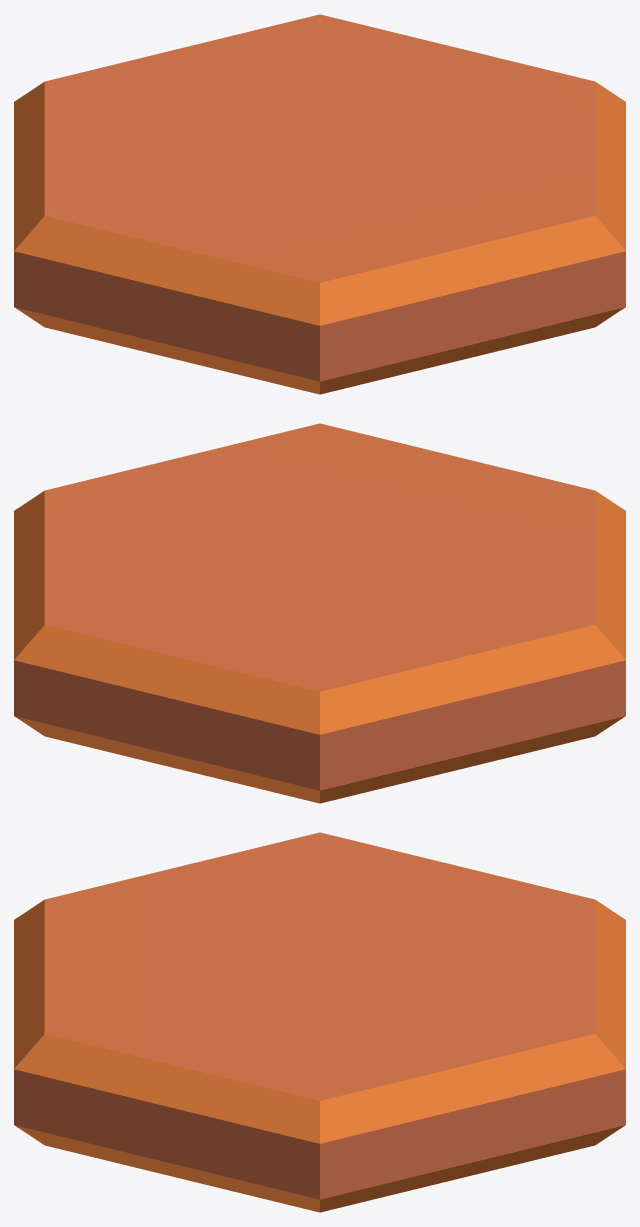
File: CoinBronze_Mesh.fbx
The picture shows the model from 3 angles, top to bottom: view 1: azimuth 30°, elevation 25°; view 2: azimuth 150°, elevation 25°; view 3: azimuth 270°, elevation 25°; orthographic projection.
Parts seen in each view (by area): view 1: CoinBronze_Mesh; view 2: CoinBronze_Mesh; view 3: CoinBronze_Mesh.
Boxes of the visible parts, left/top/right/bottom form: CoinBronze_Mesh: left=14, top=14, right=625, bottom=394; CoinBronze_Mesh: left=14, top=423, right=625, bottom=803; CoinBronze_Mesh: left=14, top=832, right=625, bottom=1212.
Size of the model in its own units: 2.35 by 0.4097 by 2.04.
1 material, 1 textured.
